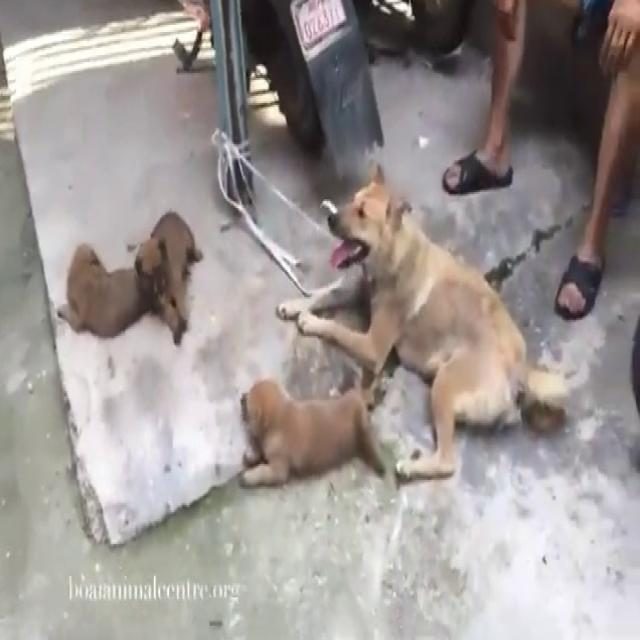normal_animals: (307, 155, 581, 473), (205, 388, 419, 564), (56, 190, 228, 356)
